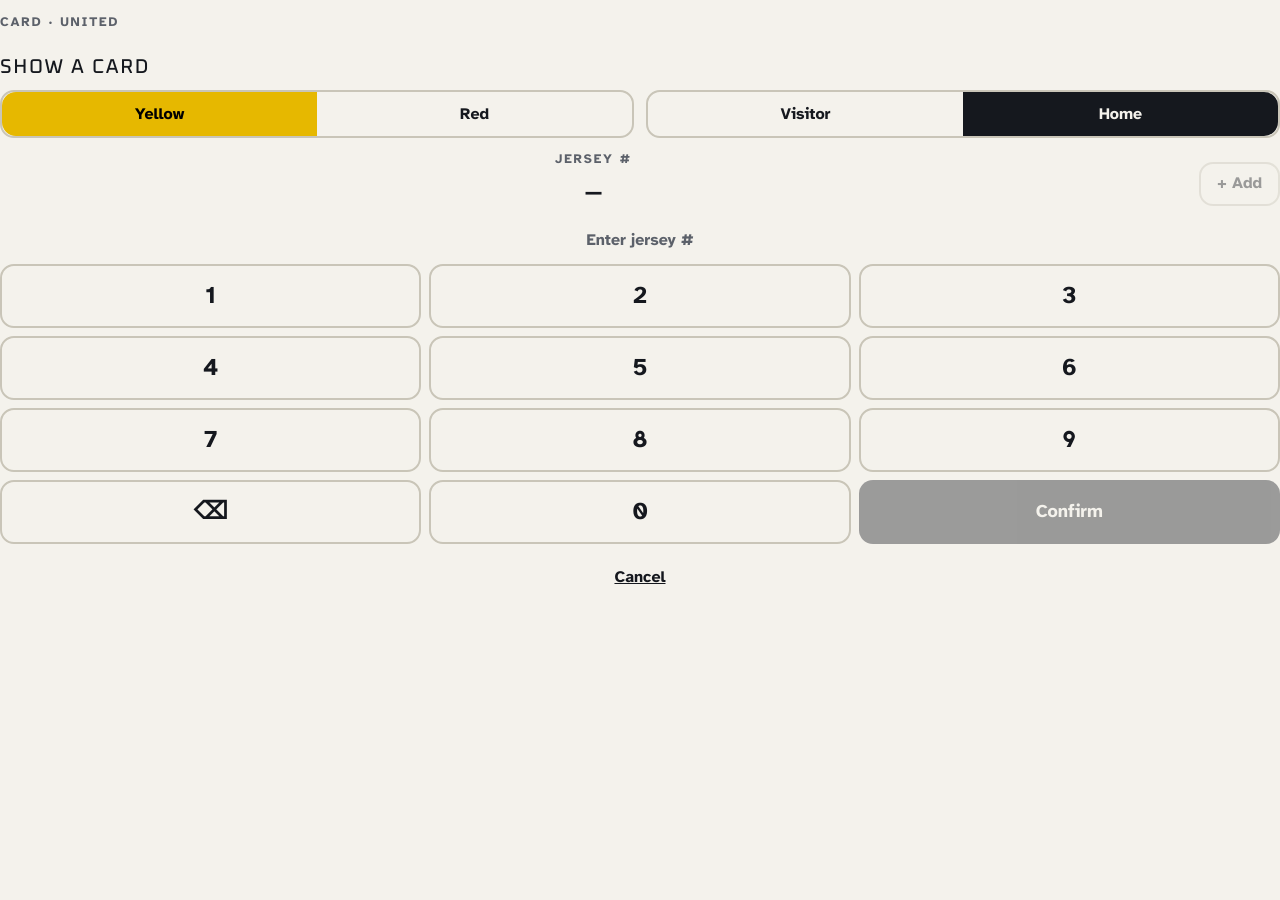
CardSheet › disables Confirm until a number is entered, with a prompt
Expected: the button "Confirm" is disabled, x1=859 y1=480 x2=1279 y2=544
Expected: the message reads "Enter jersey #", x1=586 y1=230 x2=694 y2=250
Click the button "7": coordinates (211, 440) x1=0 y1=408 x2=421 y2=472
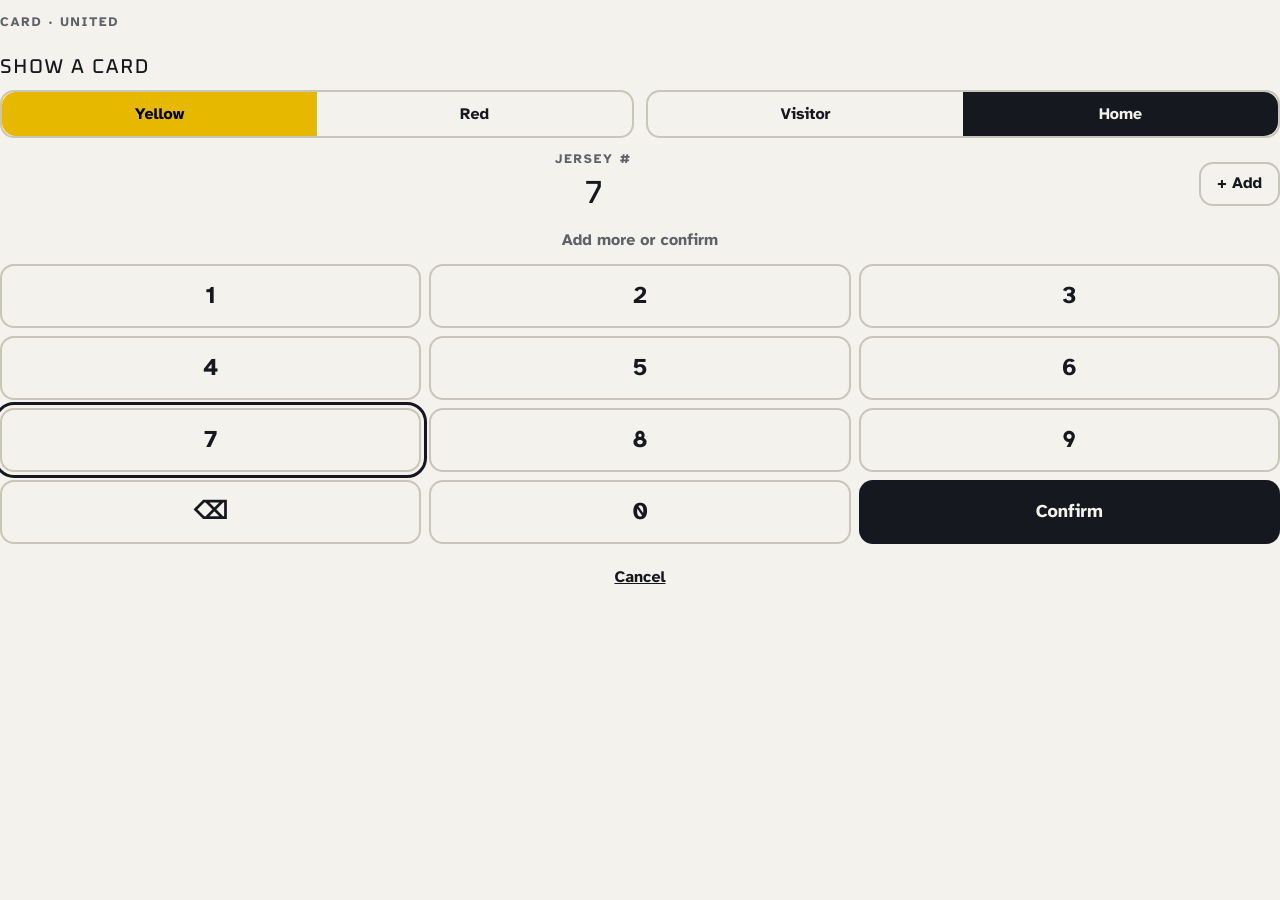
Now the button "Confirm" is enabled, box x1=859 y1=480 x2=1279 y2=544
